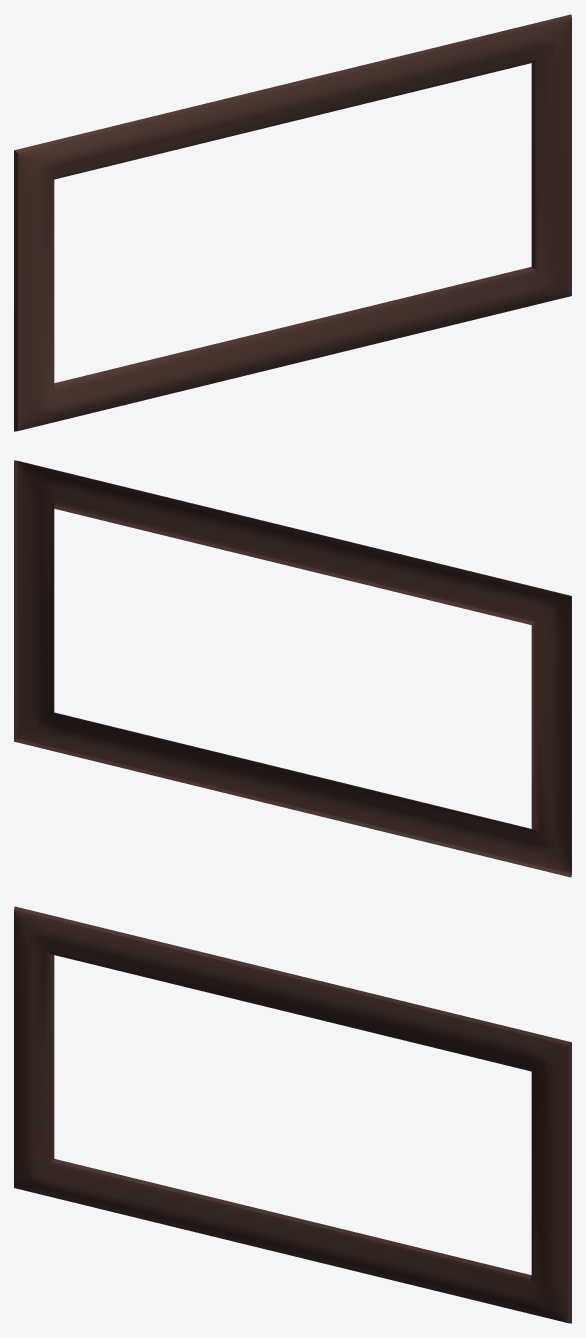
The model's file is moulures.fbx.
The picture shows the model from 3 angles, top to bottom: view 1: azimuth 30°, elevation 25°; view 2: azimuth 150°, elevation 25°; view 3: azimuth 330°, elevation 25°; orthographic projection.
Parts seen in each view (by area): view 1: pPlane3; view 2: pPlane3; view 3: pPlane3.
Part boxes in pixels (box(x1,y1,x2,y2)): pPlane3: box(14, 14, 571, 431); pPlane3: box(14, 460, 571, 877); pPlane3: box(14, 906, 571, 1323).
Bounding box in the file's own units: 123 × 59.44 × 1.97.
